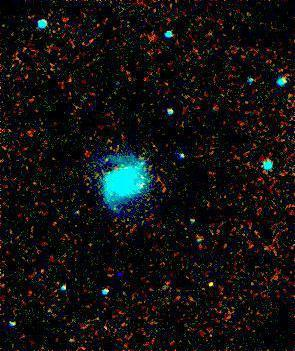star: (196, 269, 226, 299)
